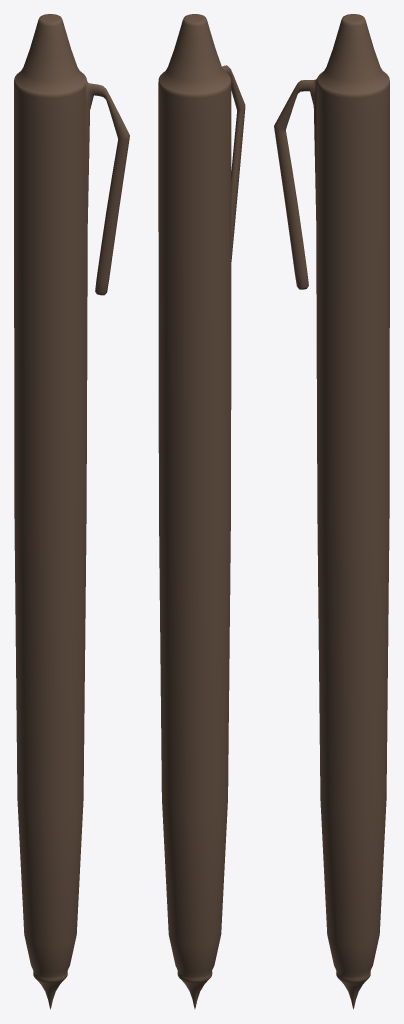
Rendered from Pen.fbx.
The picture shows the model from 3 angles, left to right: view 1: azimuth 90°, elevation 25°; view 2: azimuth 150°, elevation 25°; view 3: azimuth 270°, elevation 25°; orthographic projection.
Parts seen in each view (by area): view 1: Pen; view 2: Pen; view 3: Pen.
Part boxes in pixels (bbox=[...]): Pen: bbox=[14, 14, 129, 1009]; Pen: bbox=[158, 14, 245, 1009]; Pen: bbox=[274, 14, 389, 1009].
Bounding box in the file's own units: 43.3 × 649 × 68.8.
